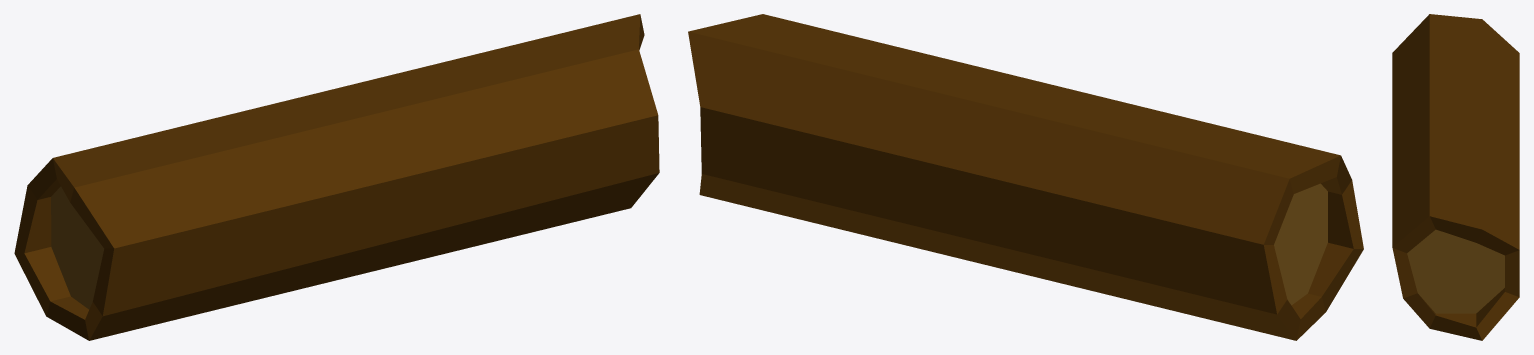
The model's file is TreeLog.fbx.
The picture shows the model from 3 angles, left to right: view 1: azimuth 30°, elevation 25°; view 2: azimuth 150°, elevation 25°; view 3: azimuth 270°, elevation 25°; orthographic projection. The views are drawn at different scales.
Parts seen in each view (by area): view 1: Tree Log; view 2: Tree Log; view 3: Tree Log.
Part boxes in pixels (bbox=[...]): Tree Log: bbox=[14, 14, 659, 340]; Tree Log: bbox=[688, 14, 1363, 340]; Tree Log: bbox=[1392, 14, 1519, 340].
Bounding box in the file's own units: 7.42 × 1.85 × 1.85.
